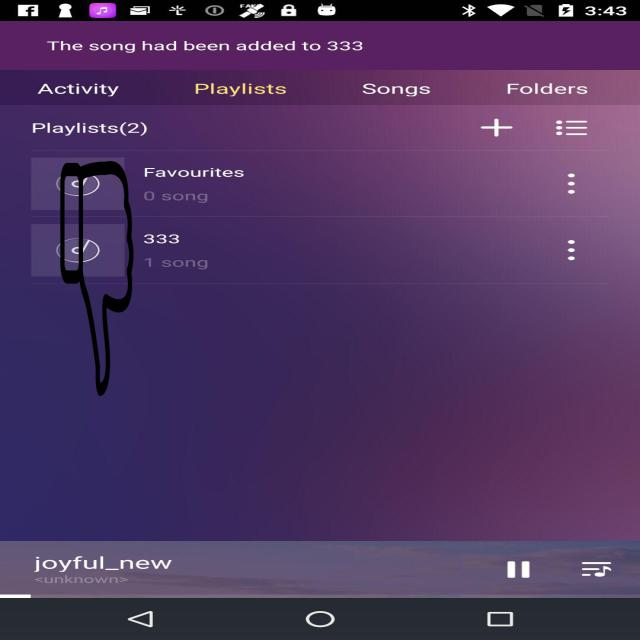obstruction: (59, 161, 135, 396)
